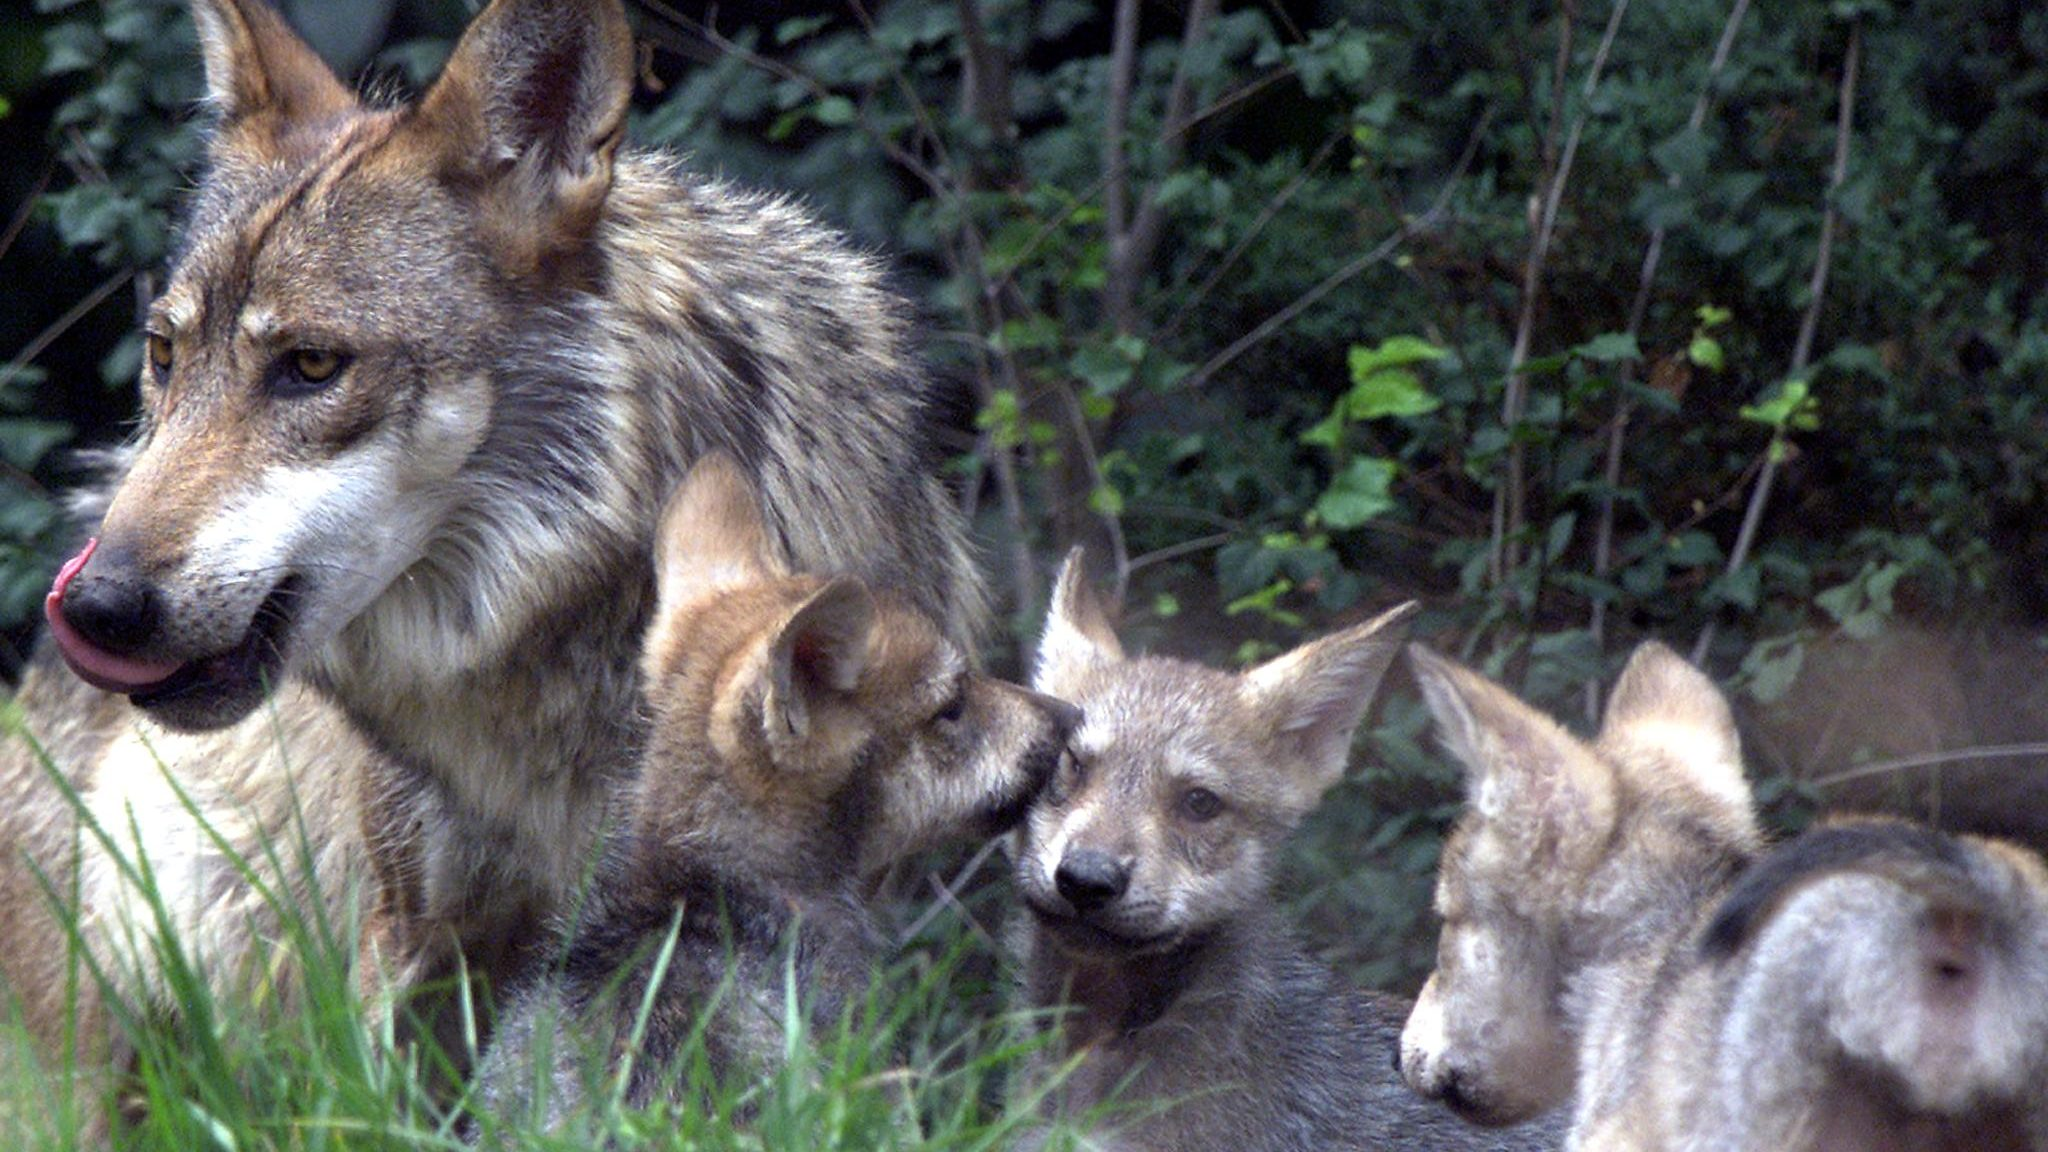Lobo: (30, 35, 700, 850), (1366, 630, 2035, 1142), (563, 435, 1066, 1108), (966, 530, 1342, 1037)
